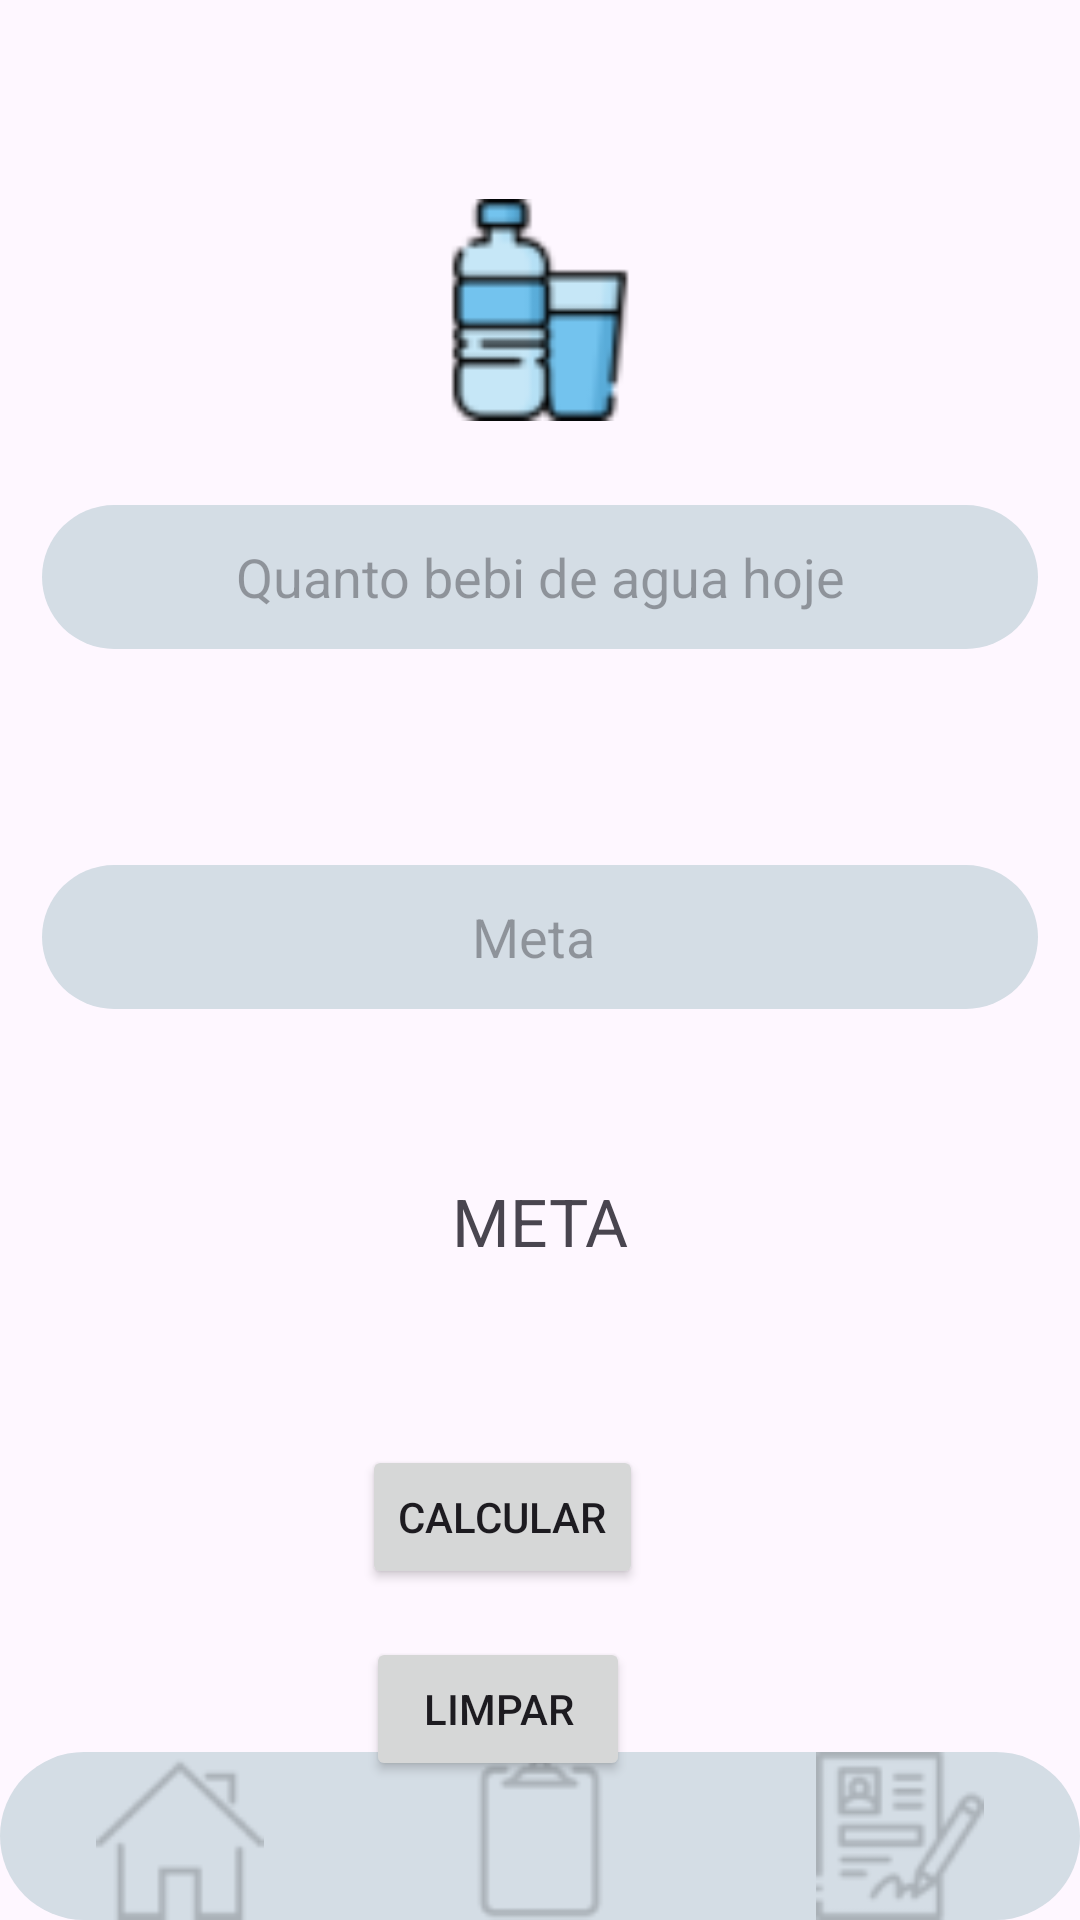

Named icons in this screenshot (1080×1920) and their centers, (x=x, y=y):
Início: (x=180, y=1836)
Perfil: (x=900, y=1836)
waterbottle: (x=540, y=310)
